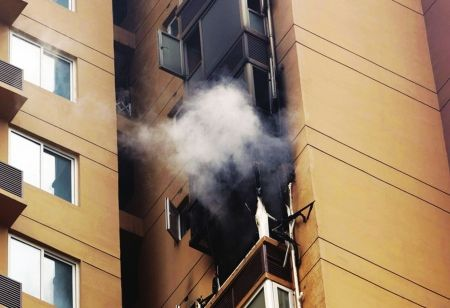smoke: (157, 92, 296, 192)
